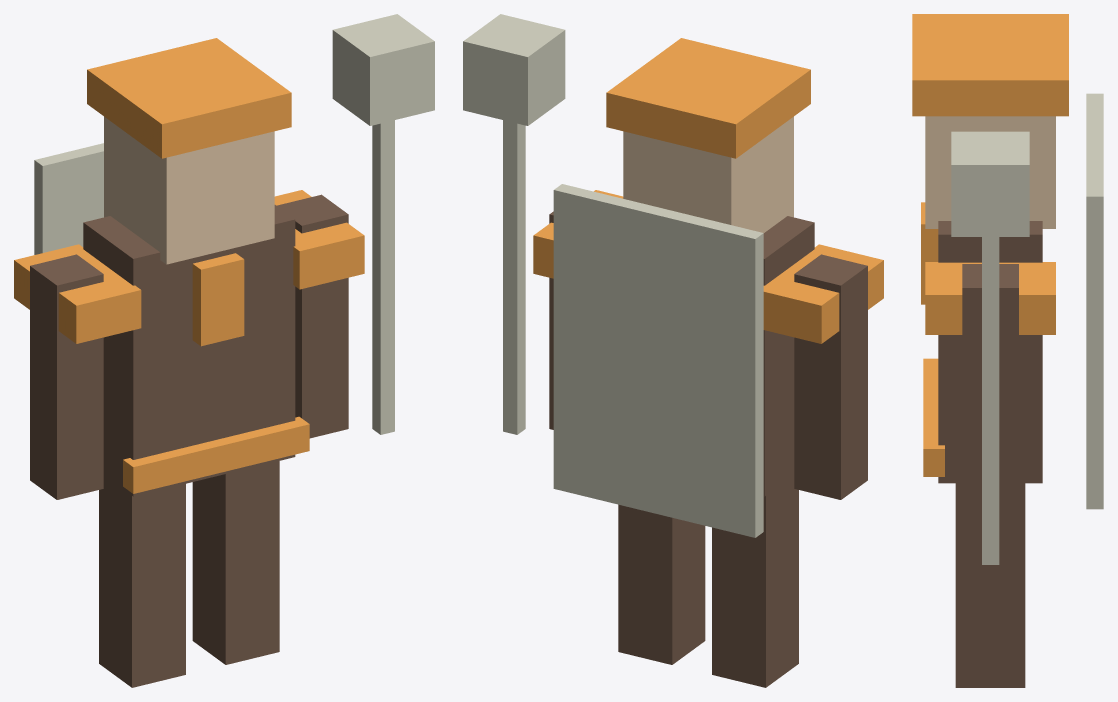
The model's file is 08_ren_ashvein_diver_at_standing.glb.
3 renders of one model, left to right at view 1: azimuth 30°, elevation 25°; view 2: azimuth 150°, elevation 25°; view 3: azimuth 270°, elevation 25°, orthographic. The views are drawn at different scales.
Visible parts, largest first — view 1: Ren Ashvein, Diver at Standing; view 2: Ren Ashvein, Diver at Standing; view 3: Ren Ashvein, Diver at Standing.
Part boxes in pixels (left/top/right/bottom): Ren Ashvein, Diver at Standing: left=14, top=14, right=434, bottom=687; Ren Ashvein, Diver at Standing: left=463, top=14, right=883, bottom=687; Ren Ashvein, Diver at Standing: left=912, top=14, right=1103, bottom=687.
Bounding box in the file's own units: 0.9844 × 1.46 × 0.4185.
